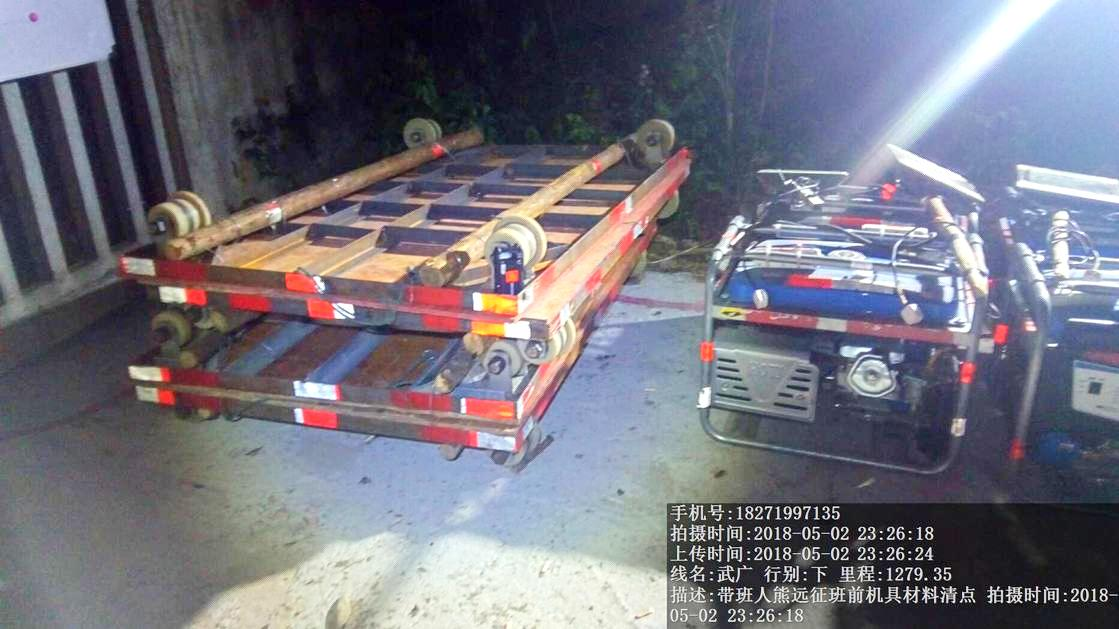DJ: (694, 203, 972, 484), (1007, 239, 1119, 486)
